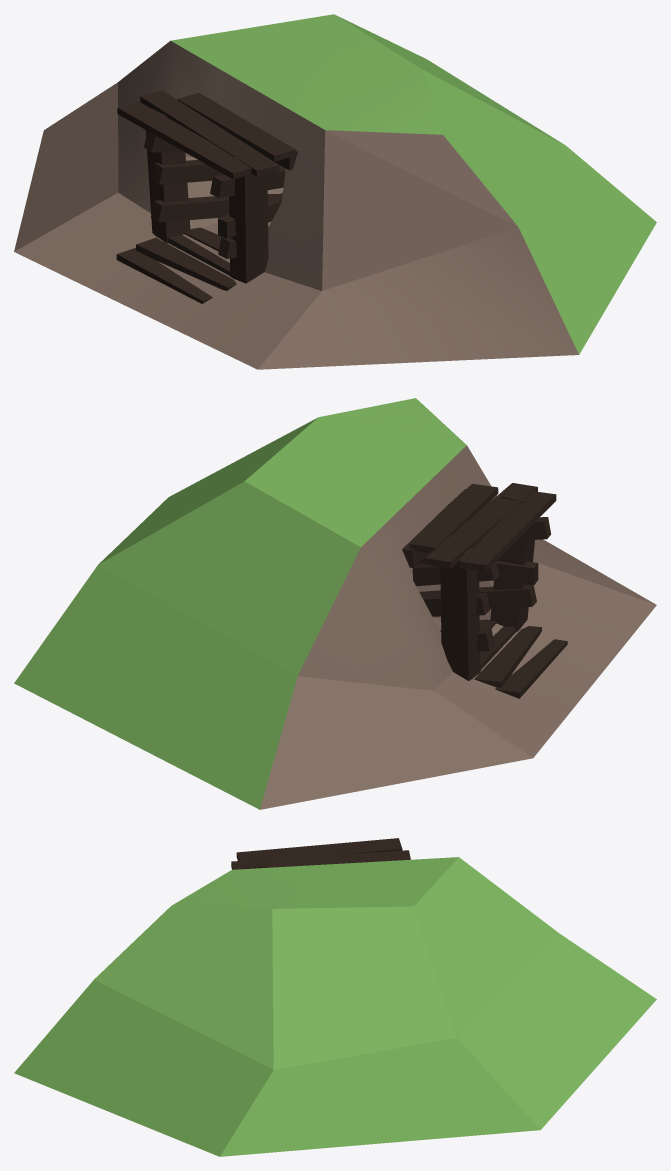
The model's file is Mine.fbx.
The picture shows the model from 3 angles, top to bottom: view 1: azimuth 30°, elevation 25°; view 2: azimuth 150°, elevation 25°; view 3: azimuth 270°, elevation 25°; orthographic projection. The views are drawn at different scales.
Parts seen in each view (by area): view 1: Mine; view 2: Mine; view 3: Mine.
Boxes of the visible parts, x1,y1,x2,y2 form: Mine: (14,14,656,369); Mine: (14,398,656,809); Mine: (14,838,656,1156).
Bounding box in the file's own units: 1.07 × 0.3669 × 1.32.
